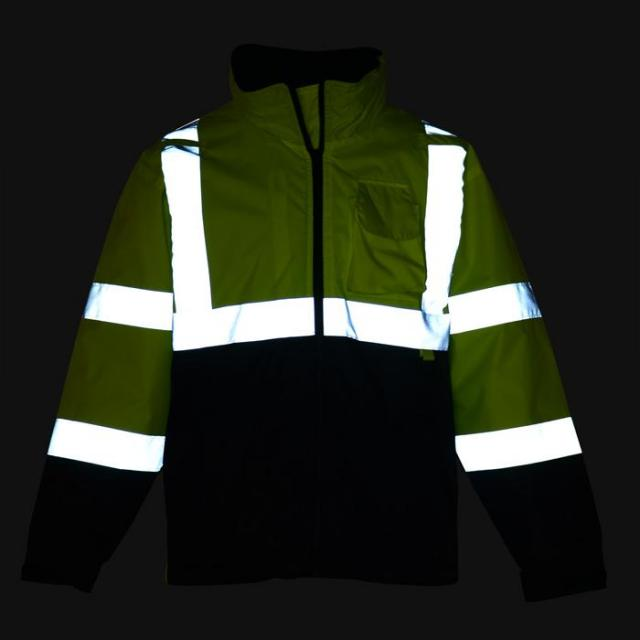Reflective-Jacket: (35, 28, 627, 515)
